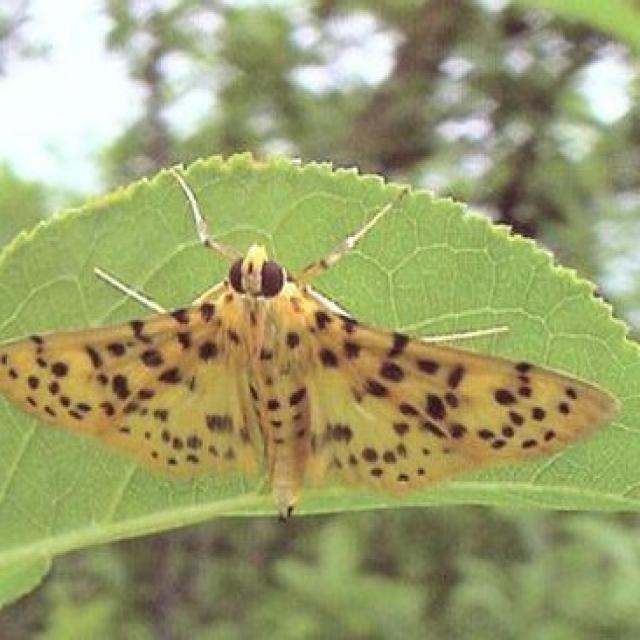peach borer: (1, 237, 617, 514)
